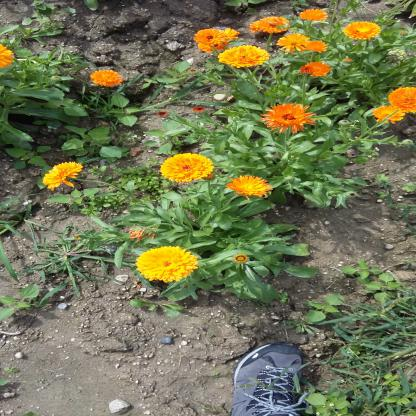marigold: (247, 217, 280, 280), (154, 204, 181, 256), (104, 104, 131, 151), (47, 147, 68, 197), (164, 333, 188, 374), (177, 146, 196, 188), (22, 36, 39, 71), (34, 107, 52, 138), (71, 293, 87, 325), (29, 192, 44, 218), (63, 86, 78, 111), (9, 90, 21, 114)
